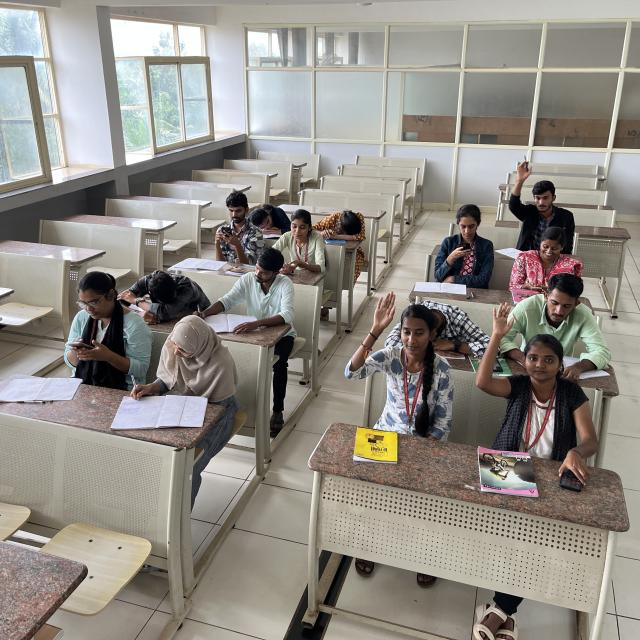Hand Rising: (472, 300, 586, 446), (339, 290, 449, 417), (505, 156, 581, 247)
Reading: (499, 280, 615, 372), (203, 254, 303, 328)
Sleeping: (389, 294, 490, 358), (119, 260, 213, 322), (316, 208, 382, 242), (248, 198, 292, 240)
Using Phone: (32, 266, 154, 381), (203, 190, 270, 266), (428, 206, 495, 275), (512, 231, 580, 290), (275, 215, 324, 272)
Writing: (118, 314, 243, 432)
